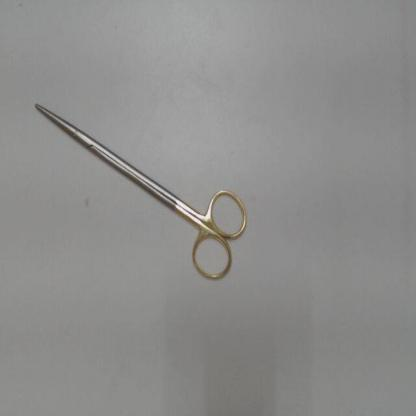7 Metzenbaum Scissors: (30, 96, 250, 288)
